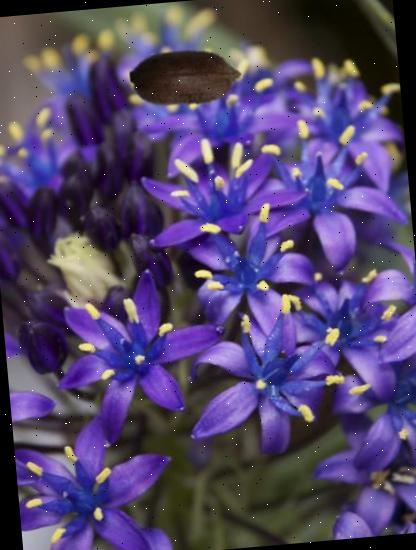Nut: (126, 17, 248, 138)
